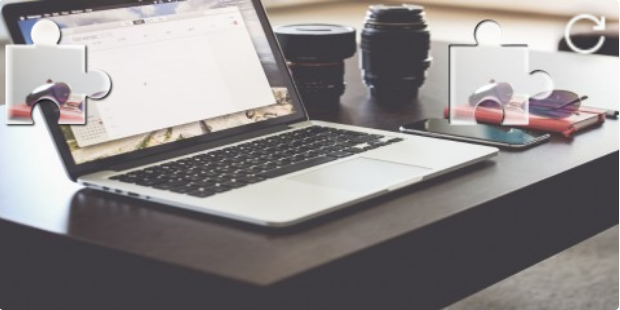target: (449, 19, 554, 125)
